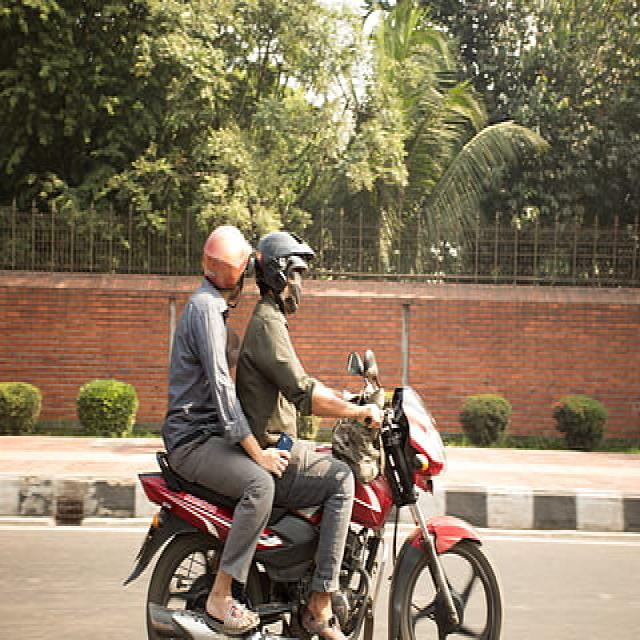bike: (147, 394, 489, 629)
